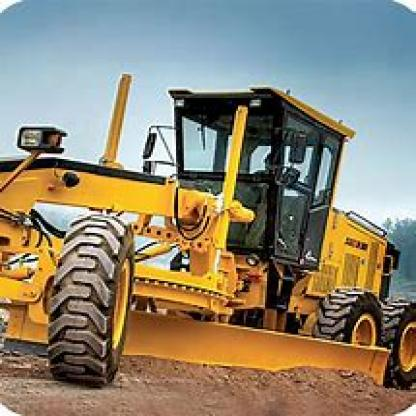bull_dozer/loader/grader: (4, 72, 414, 394)
